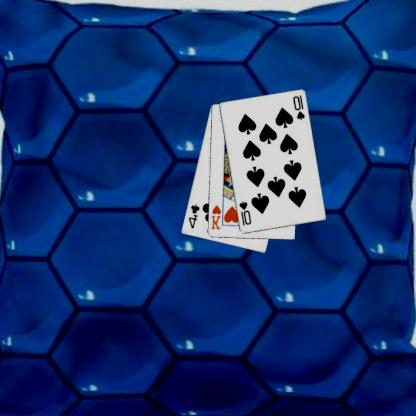10S: (292, 92, 308, 121), (238, 198, 254, 226)
4C: (188, 202, 202, 230)
KH: (210, 203, 224, 230)
